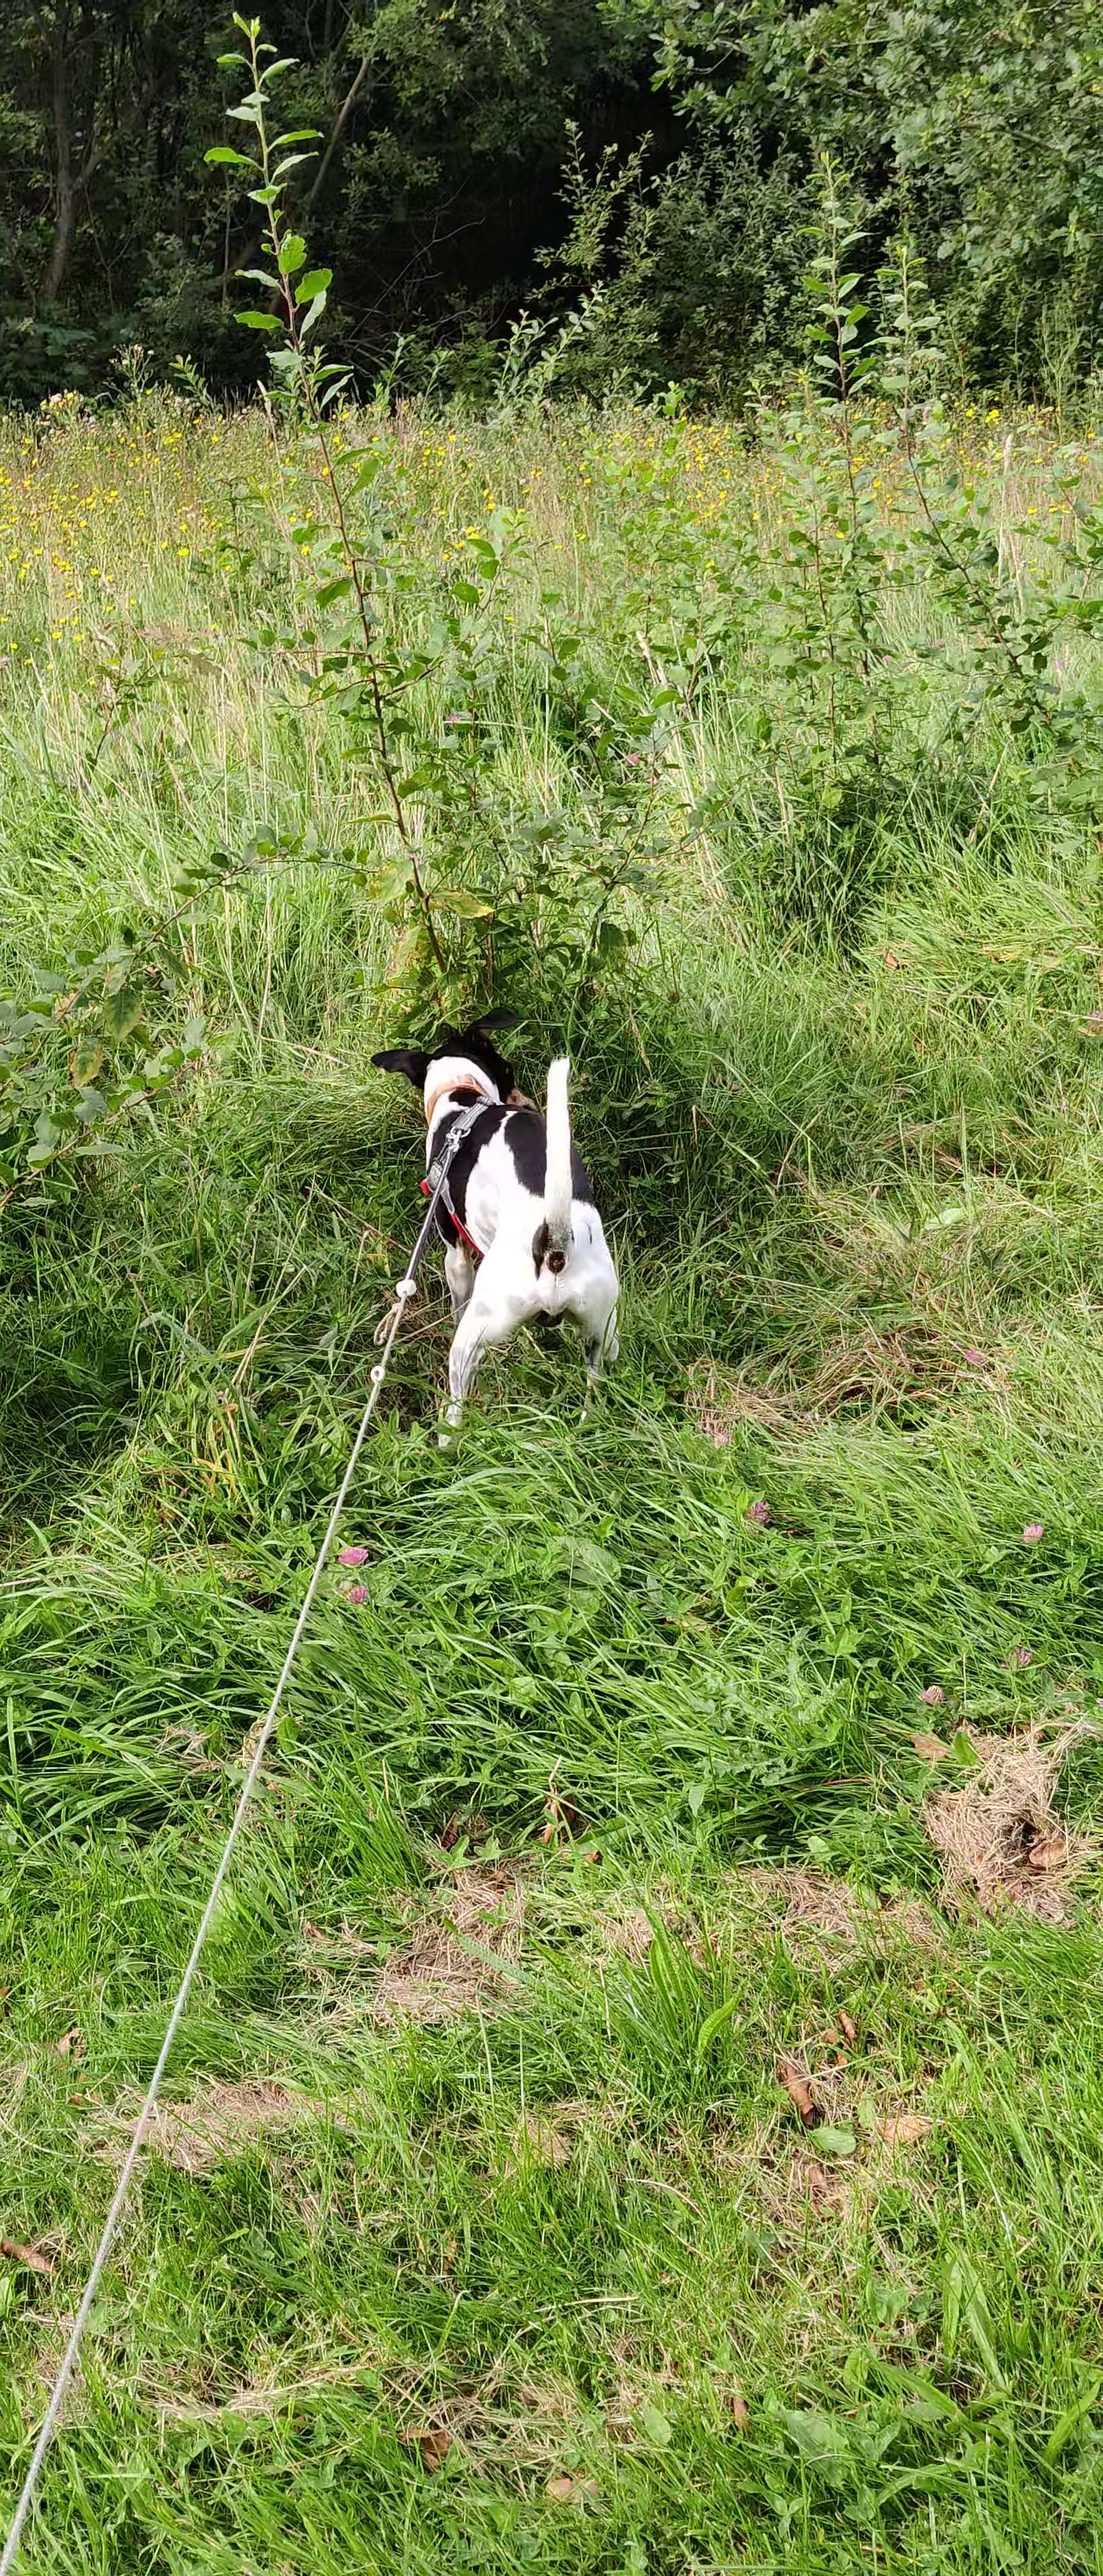Dog: (353, 997, 653, 1442)
